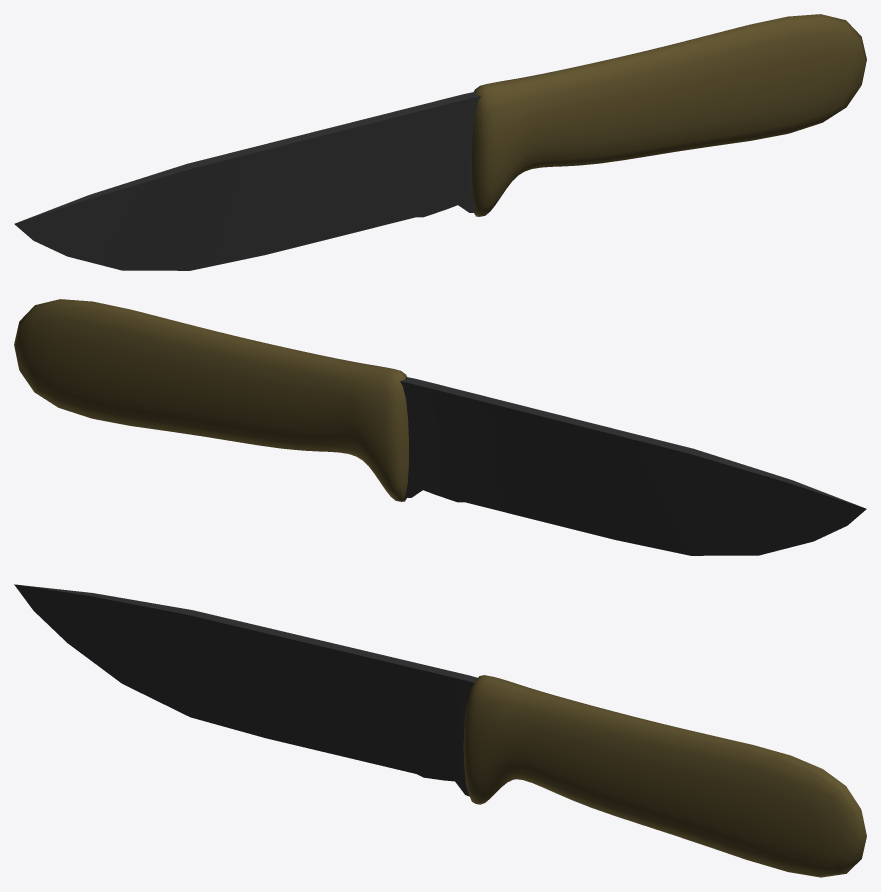
File: CombatKnife.fbx
The picture shows the model from 3 angles, top to bottom: view 1: azimuth 30°, elevation 25°; view 2: azimuth 150°, elevation 25°; view 3: azimuth 330°, elevation 25°; orthographic projection.
Visible parts, largest first — view 1: Knife; view 2: Knife; view 3: Knife.
Boxes of the visible parts, x1=… form: Knife: x1=14, y1=14, x2=866, y2=270; Knife: x1=14, y1=299, x2=866, y2=555; Knife: x1=14, y1=584, x2=866, y2=877.
Size of the model in its own units: 17.96 by 2.63 by 0.9089.
